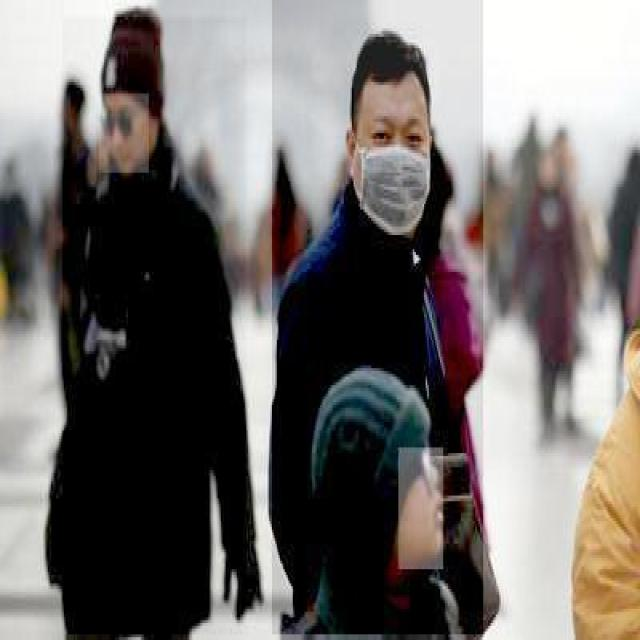face_mask: (354, 110, 434, 235)
face_nomask: (398, 447, 445, 572), (100, 94, 150, 175)
glasses: (99, 106, 138, 143)
head_nohelmet: (354, 40, 442, 110)
person: (272, 0, 485, 637), (62, 17, 248, 637)
